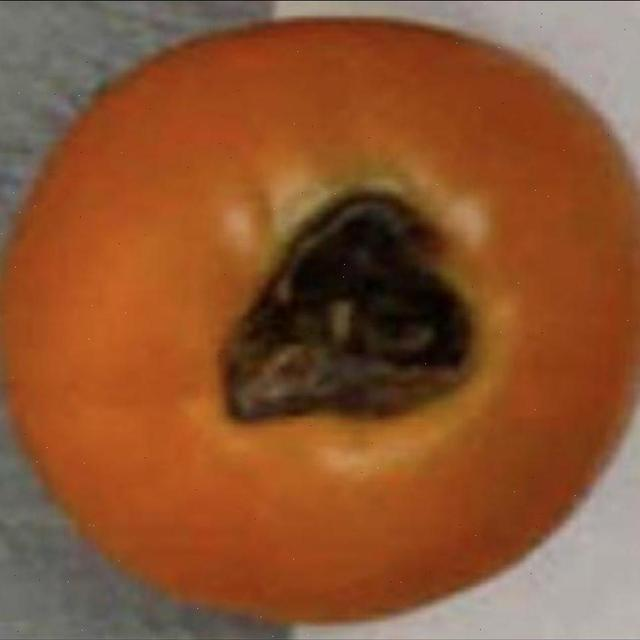Blossom End Rot Fruit: (120, 114, 327, 289)
